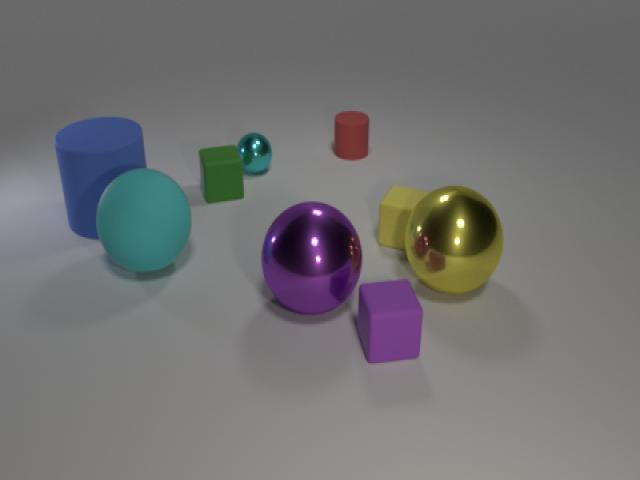cylinder: (49, 112, 158, 245), (328, 104, 377, 163)
round ball: (399, 174, 511, 302), (258, 197, 366, 321), (91, 162, 197, 280), (234, 129, 276, 176)
